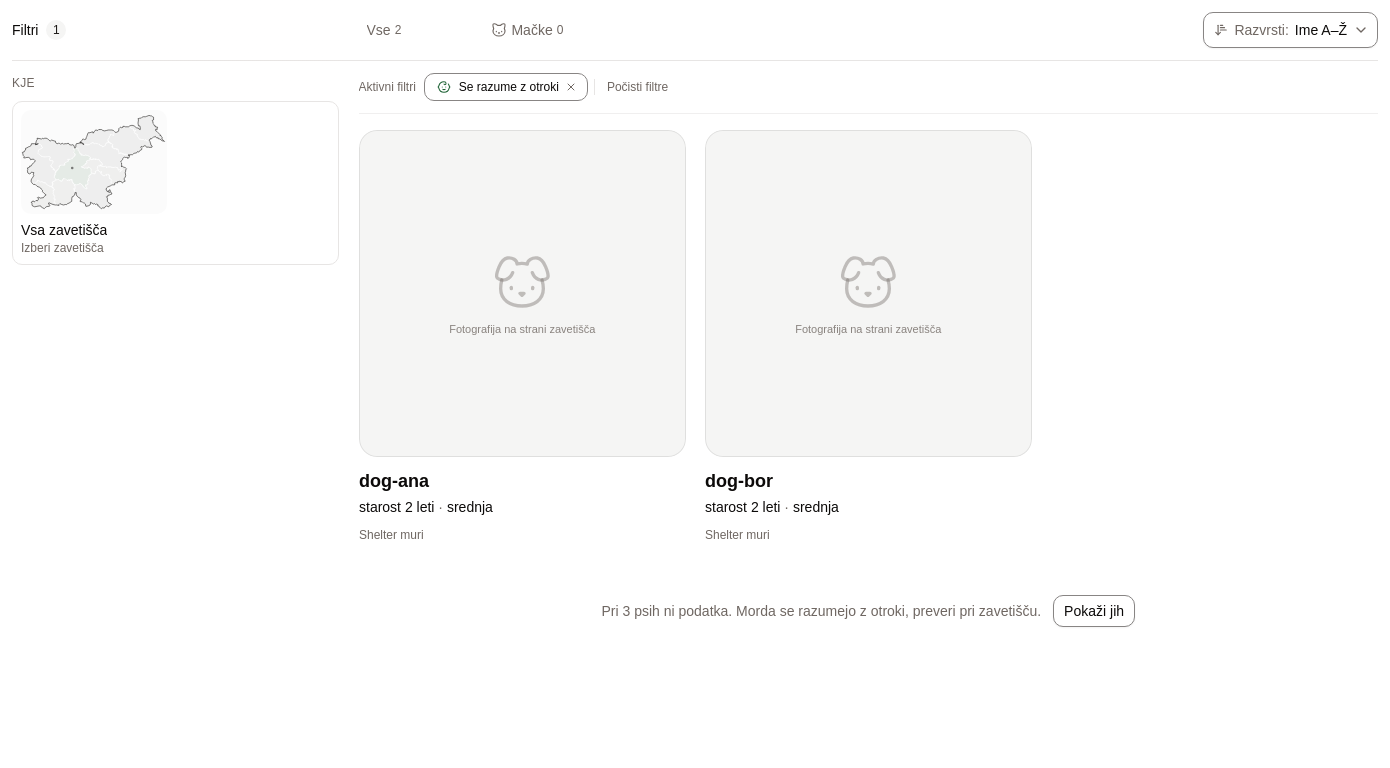
Scenario: the band once it is shown › draws a divider and the band's cards after the matches, and focuses the first
Click the button "Pokaži jih" at [1094, 610], box [1053,594,1135,626]
(page scrolled)
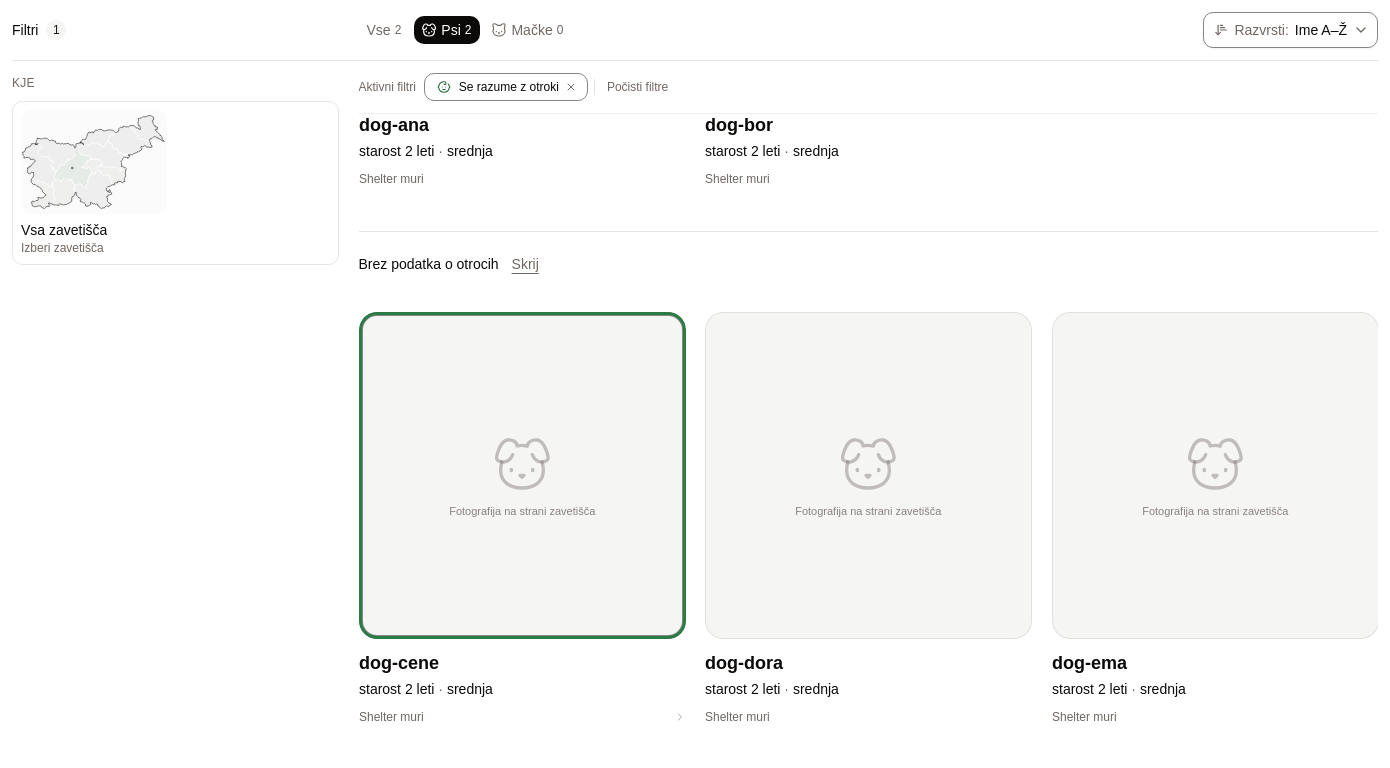
expect the heading "Brez podatka o otrocih" is shown: met, box [358,254,499,274]
expect the text "Pri 3 psih ni podatka" is gone: met
